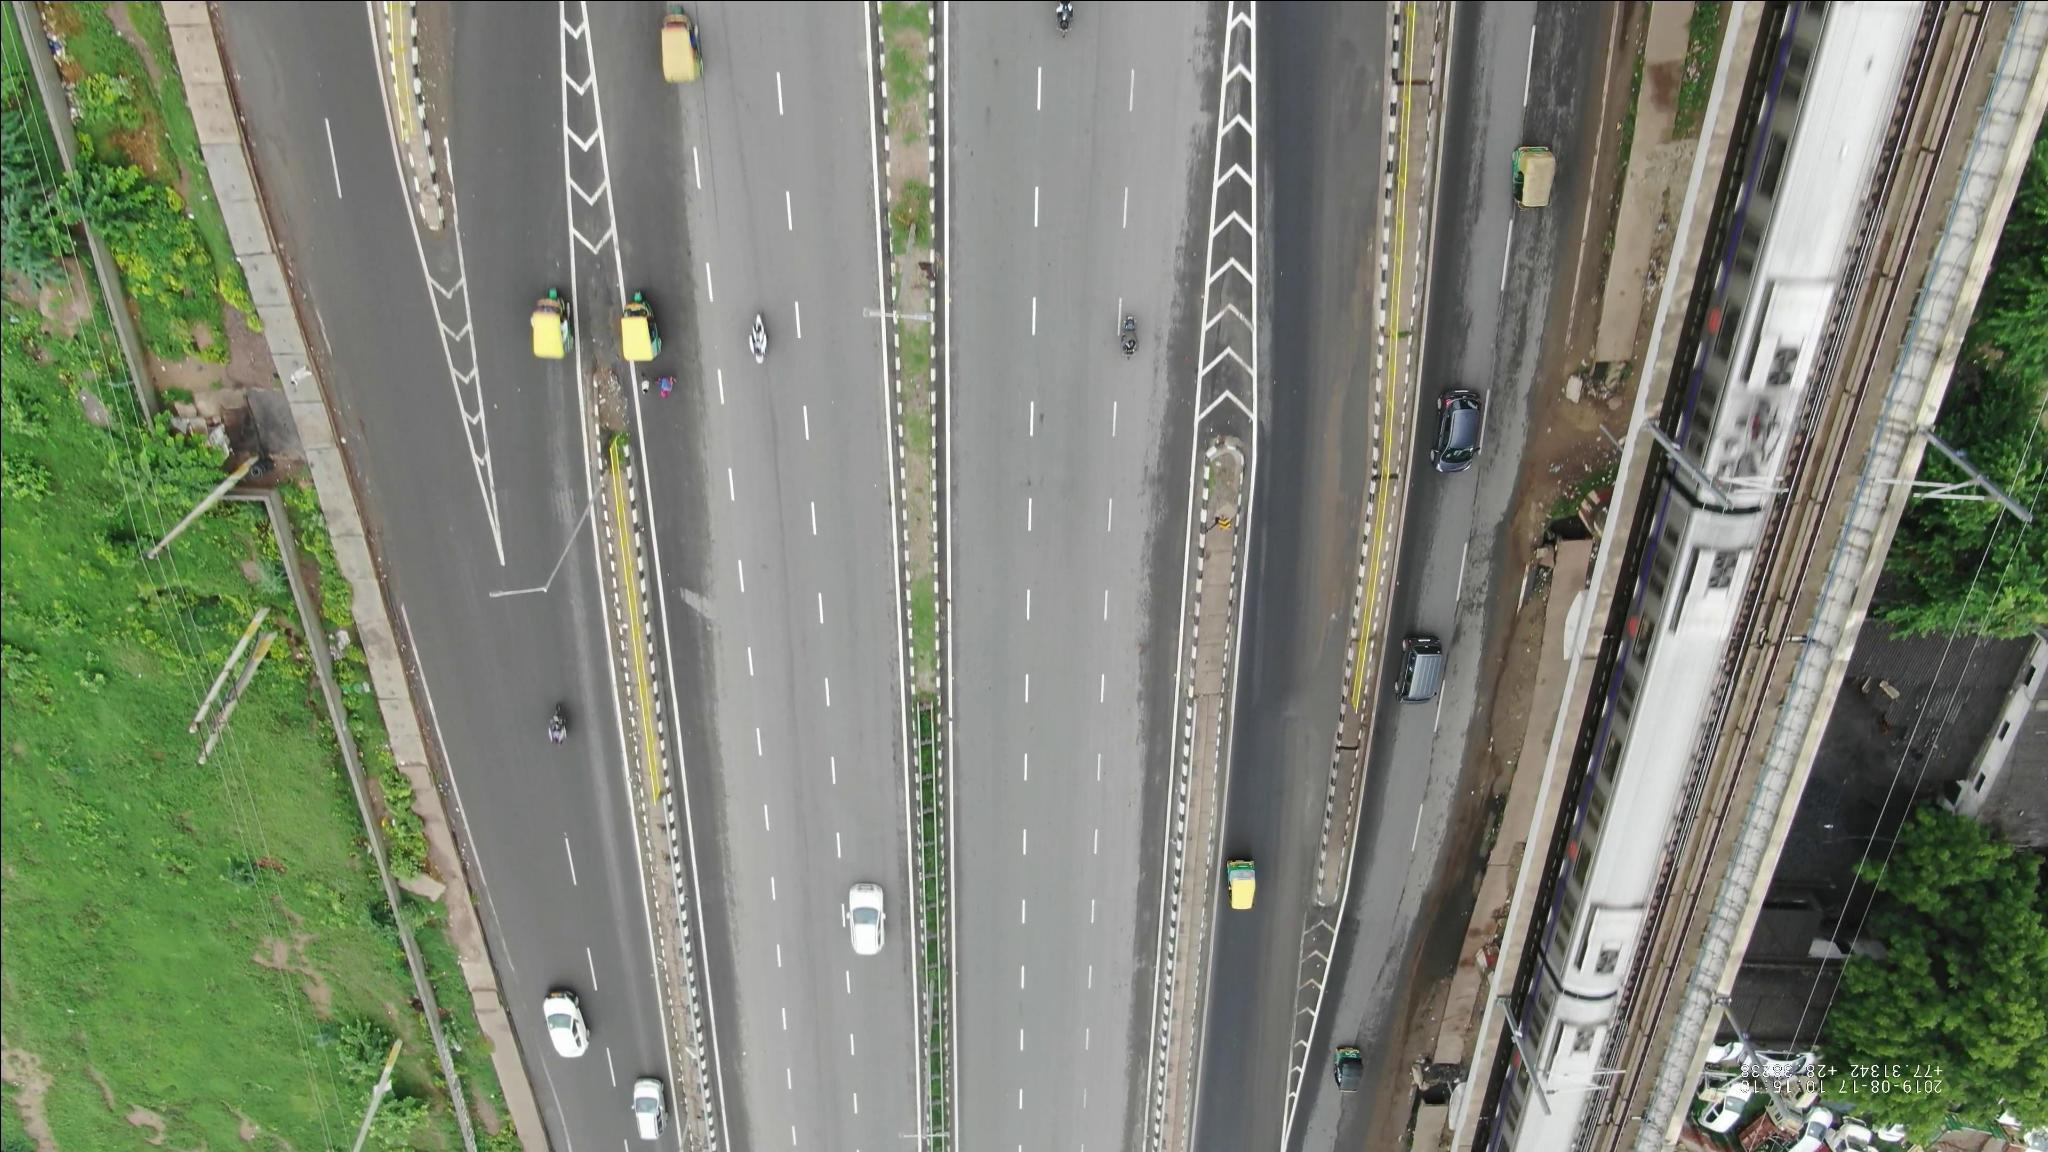Ravelling: (758, 399, 805, 692)
Waterlogging: (1305, 300, 1359, 601)
